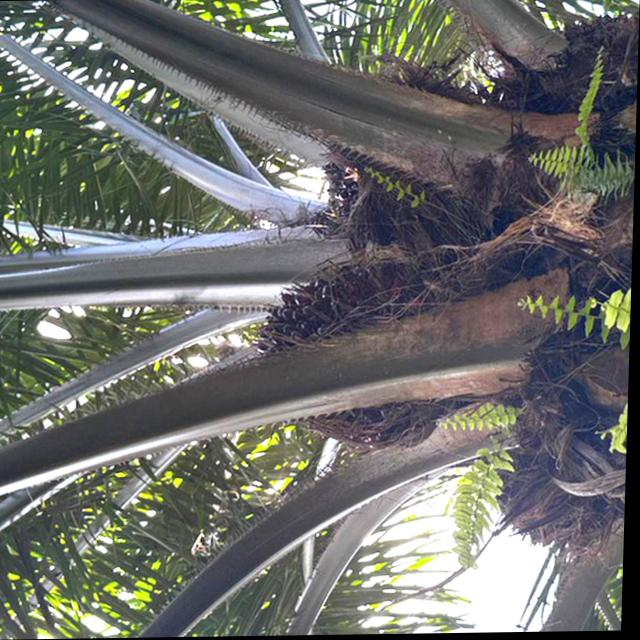ripe: (256, 247, 449, 455)
